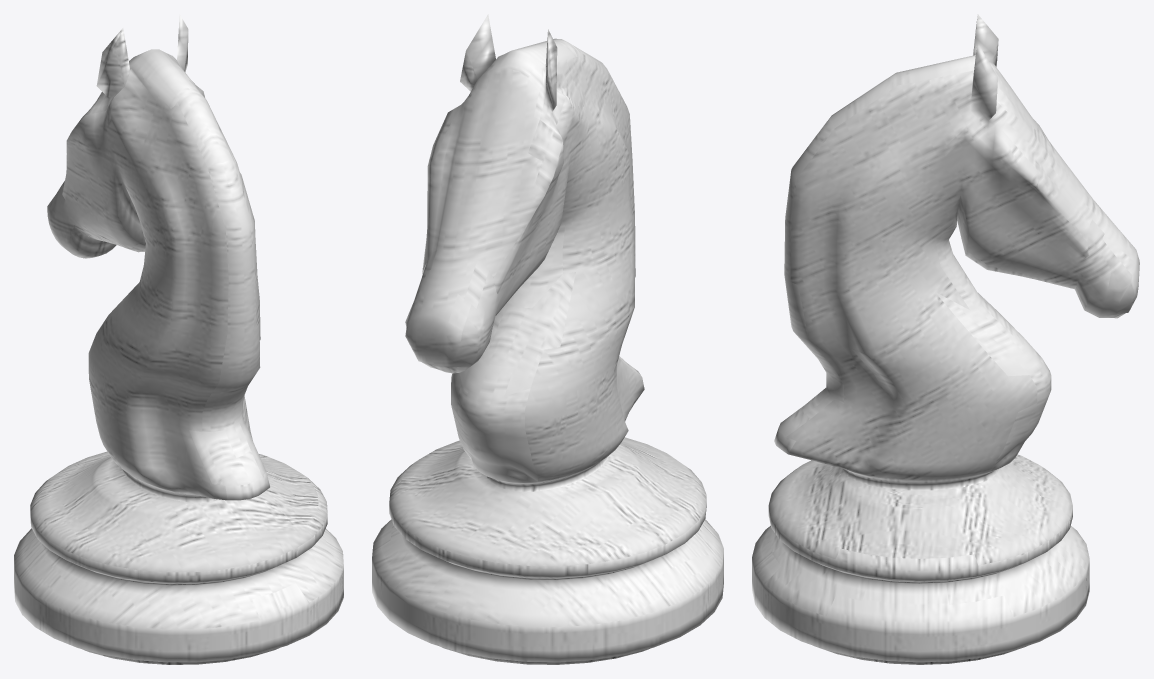
The model's file is knight-white.fbx.
3 views of the same model, side by side, from view 1: azimuth 30°, elevation 25°; view 2: azimuth 150°, elevation 25°; view 3: azimuth 270°, elevation 25° (orthographic). The views are drawn at different scales.
Parts seen in each view (by area): view 1: Knight.001; view 2: Knight.001; view 3: Knight.001.
Boxes of the visible parts, x1,y1,x2,y2 form: Knight.001: (14, 14, 343, 664); Knight.001: (372, 14, 723, 664); Knight.001: (752, 14, 1139, 664).
Bounding box in the file's own units: 97.17 × 182 × 112.
1 material, 1 textured.
